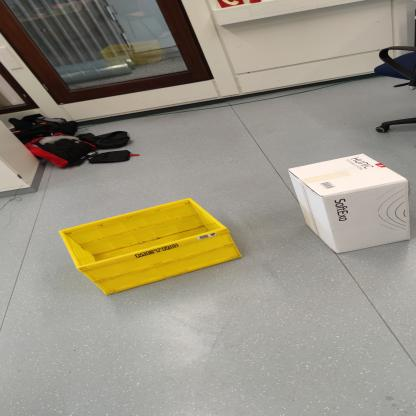box: (60, 193, 252, 305), (260, 145, 416, 273)
